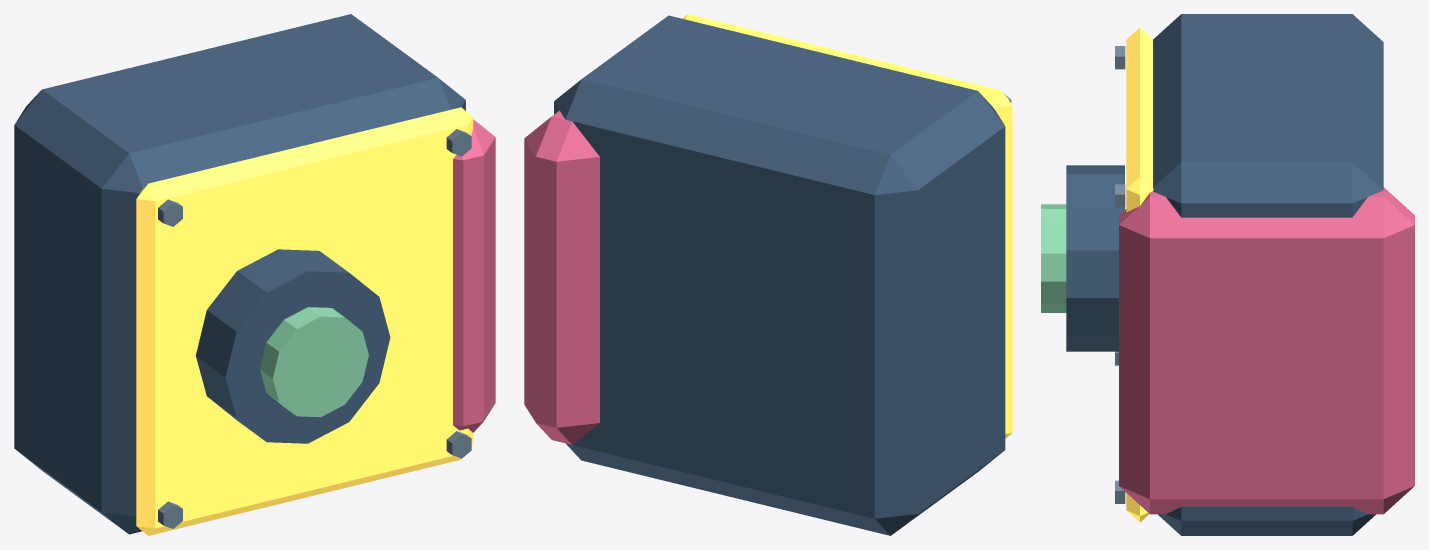
Rendered from collision_switch.glb.
3 renders of one model, left to right at view 1: azimuth 30°, elevation 25°; view 2: azimuth 150°, elevation 25°; view 3: azimuth 270°, elevation 25°, orthographic.
Visible parts, largest first — view 1: Structural core.010, Front armor.010, Contact switch, Pressure bumper, Indicator; view 2: Structural core.010, Pressure bumper, Front armor.010; view 3: Pressure bumper, Structural core.010, Contact switch, Front armor.010, Indicator.
Part boxes in pixels (x1,y1,x2,y2): Structural core.010: [14, 14, 465, 534]; Front armor.010: [136, 107, 473, 535]; Contact switch: [196, 249, 390, 443]; Pressure bumper: [453, 119, 495, 432]; Indicator: [260, 307, 368, 417]; Structural core.010: [554, 15, 1005, 535]; Pressure bumper: [524, 110, 599, 444]; Front armor.010: [682, 14, 1012, 438]; Pressure bumper: [1119, 187, 1414, 514]; Structural core.010: [1153, 14, 1383, 535]; Contact switch: [1066, 165, 1124, 351]; Front armor.010: [1126, 27, 1153, 522]; Indicator: [1041, 204, 1066, 312].
Bounding box in the file's own units: 1.1 × 1.06 × 0.96.
